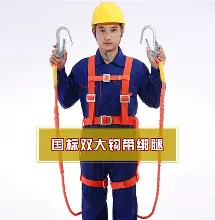safety belt: (75, 51, 146, 191)
